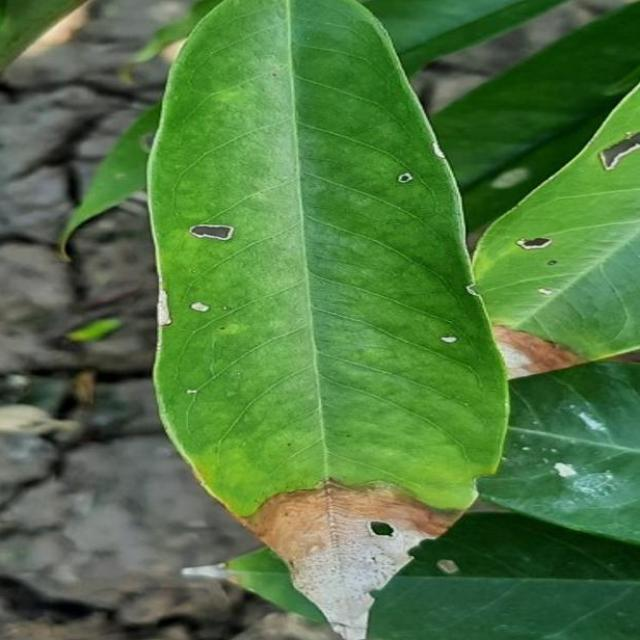Leaf Blight: (125, 0, 509, 640)
